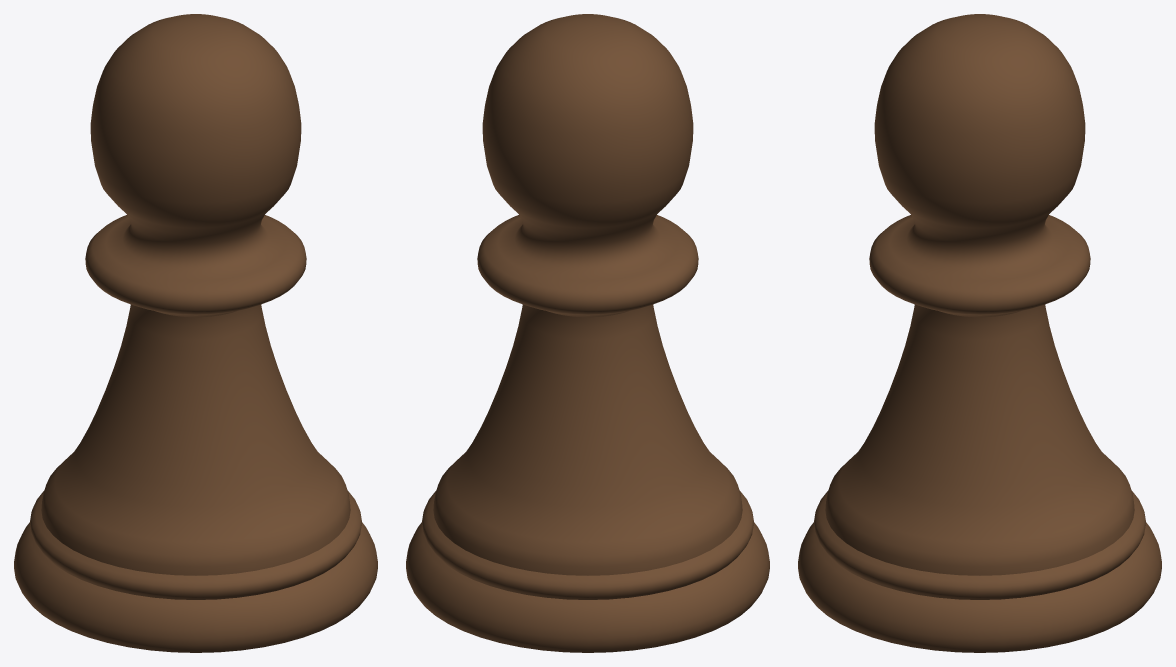
File: black-pawn.glb
3 views of the same model, side by side, from view 1: azimuth 30°, elevation 25°; view 2: azimuth 150°, elevation 25°; view 3: azimuth 270°, elevation 25° (orthographic).
Parts seen in each view (by area): view 1: black-pawn.001; view 2: black-pawn.001; view 3: black-pawn.001.
Boxes of the visible parts, bbox=[...] form: black-pawn.001: bbox=[14, 14, 377, 652]; black-pawn.001: bbox=[406, 14, 769, 652]; black-pawn.001: bbox=[798, 14, 1161, 652].
Size of the model in its own units: 0.52 by 0.87 by 0.52.
